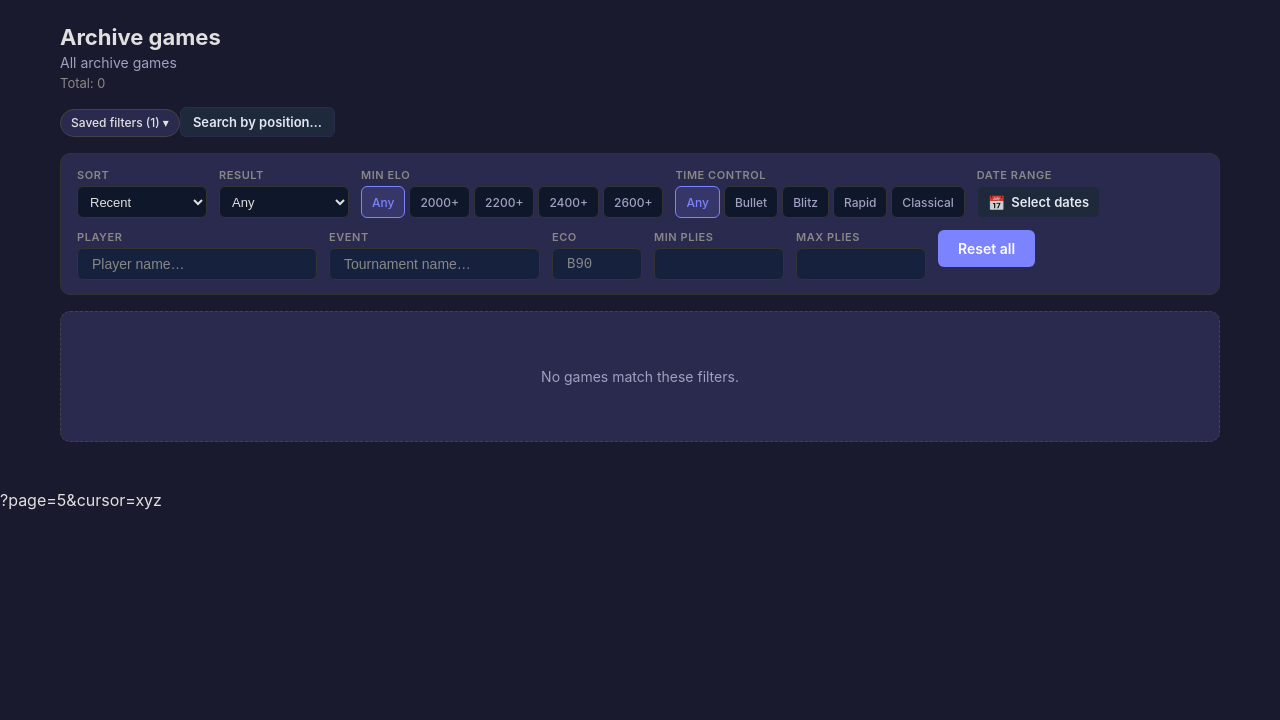
Test case: SavedFiltersDropdown в ArchiveMetadataMode — KS-2936 интеграция › apply пресета → URL обновлён + pagination=1 без cursor + KS-2210 putFilters
Note: Открываем dropdown и применяем пресет.
Click the button with test id "saved-filters-toggle".
click(120, 123)  # box x1=60 y1=109 x2=180 y2=137
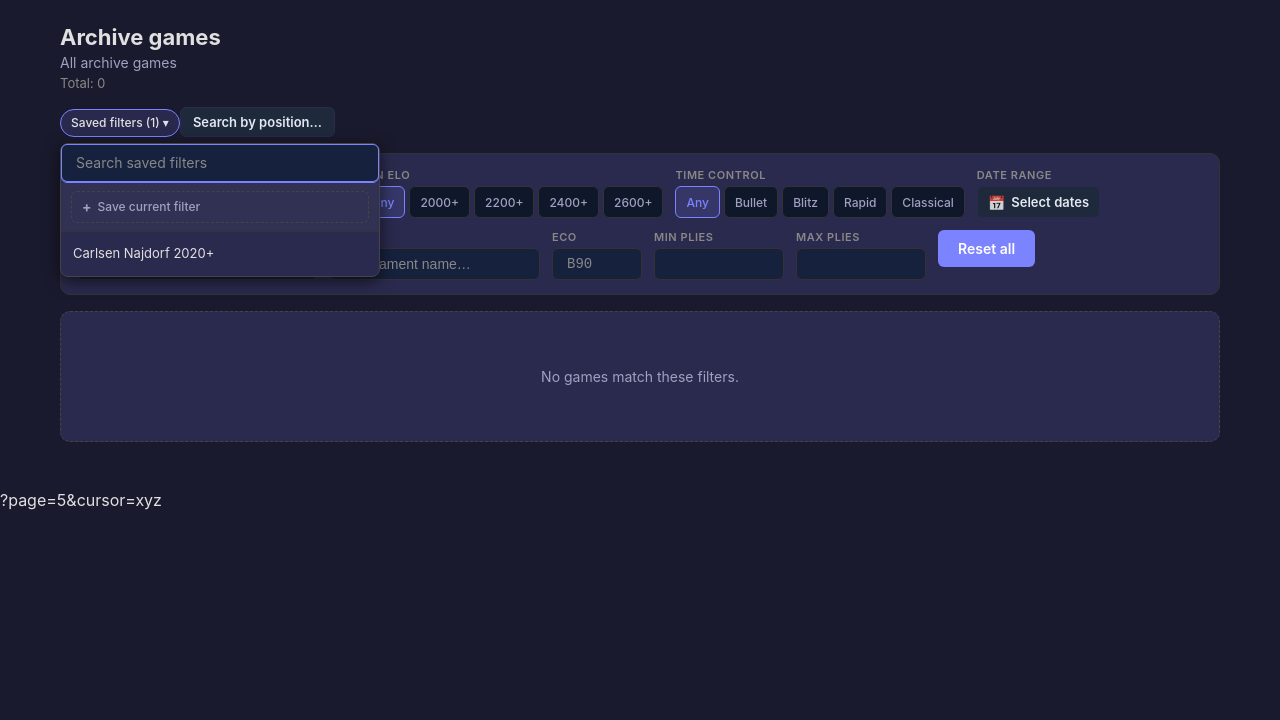
Click the menu item with test id "saved-filters-apply-carl-najdorf".
click(206, 254)  # box x1=61 y1=236 x2=351 y2=272
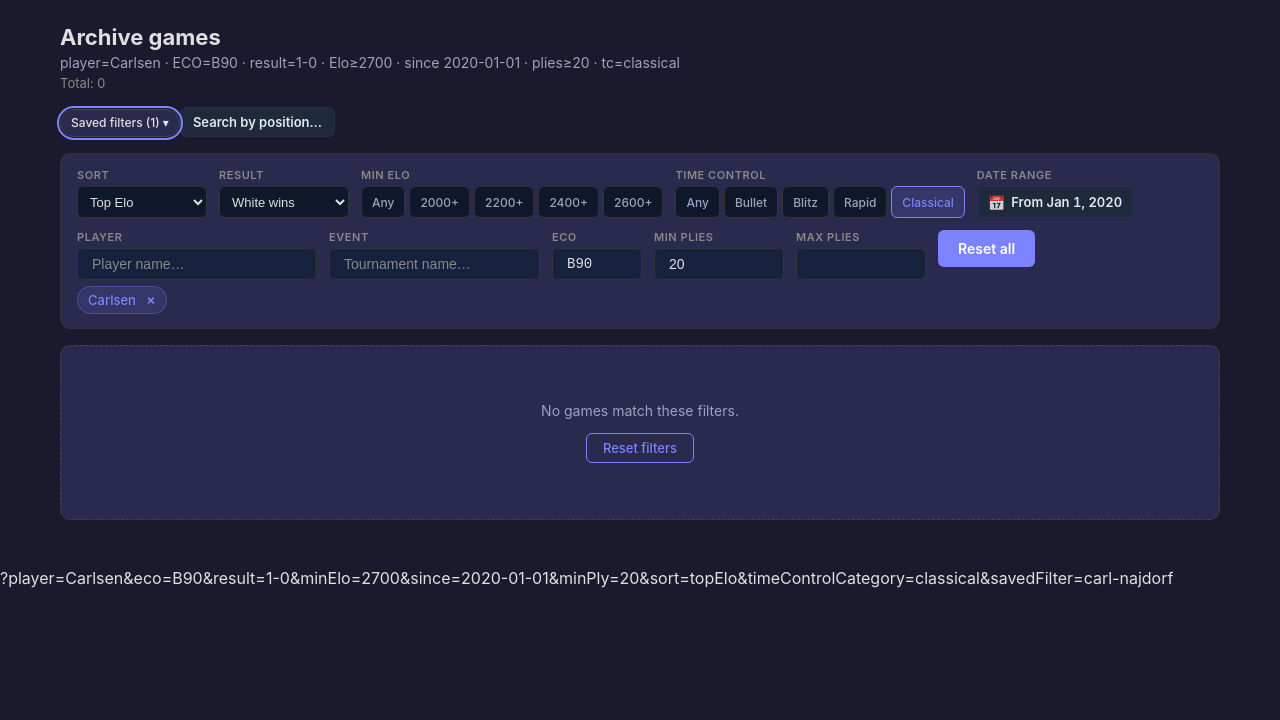
Now the text with test id "location-probe" shows "player=Carlsen", box x1=0 y1=568 x2=1173 y2=588
Now the text with test id "location-probe" shows "eco=B90", box x1=0 y1=568 x2=1173 y2=588
Now the text with test id "location-probe" shows "result=1-0", box x1=0 y1=568 x2=1173 y2=588
